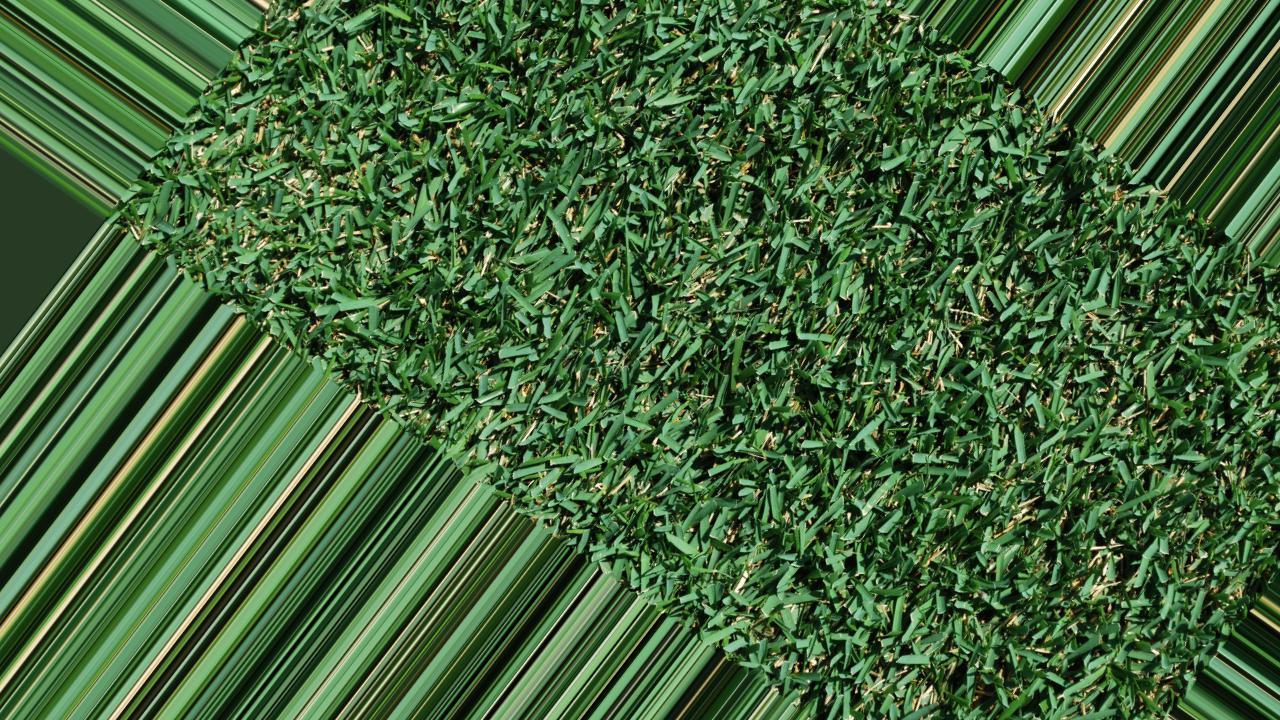patch: (689, 275, 704, 291)
